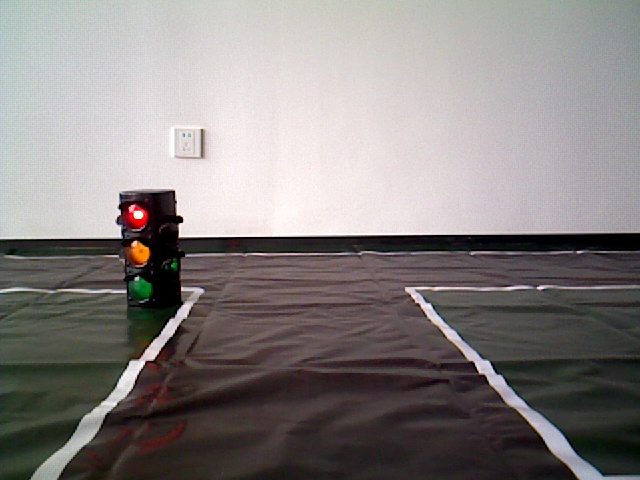red: (120, 195, 179, 306)
